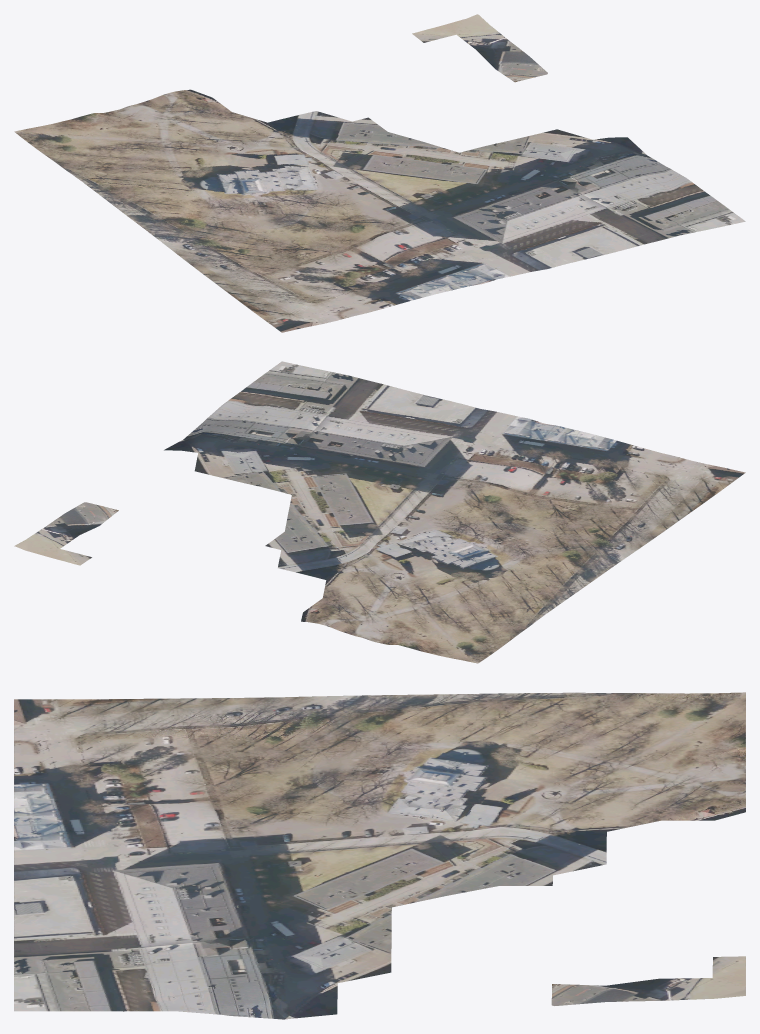
File: CM_Terrain_24486978_6821432.fbx
The picture shows the model from 3 angles, top to bottom: view 1: azimuth 30°, elevation 25°; view 2: azimuth 150°, elevation 25°; view 3: azimuth 270°, elevation 25°; orthographic projection. The views are drawn at different scales.
Parts seen in each view (by area): view 1: CM_Terrain_24486978_6821432_LOD0; view 2: CM_Terrain_24486978_6821432_LOD0; view 3: CM_Terrain_24486978_6821432_LOD0.
Boxes of the visible parts, x1,y1,x2,y2 form: CM_Terrain_24486978_6821432_LOD0: (14, 14, 745, 332); CM_Terrain_24486978_6821432_LOD0: (14, 361, 745, 663); CM_Terrain_24486978_6821432_LOD0: (14, 692, 745, 1019).
Size of what is drawn, in the model's own units: 205 by 7.33 by 205.
